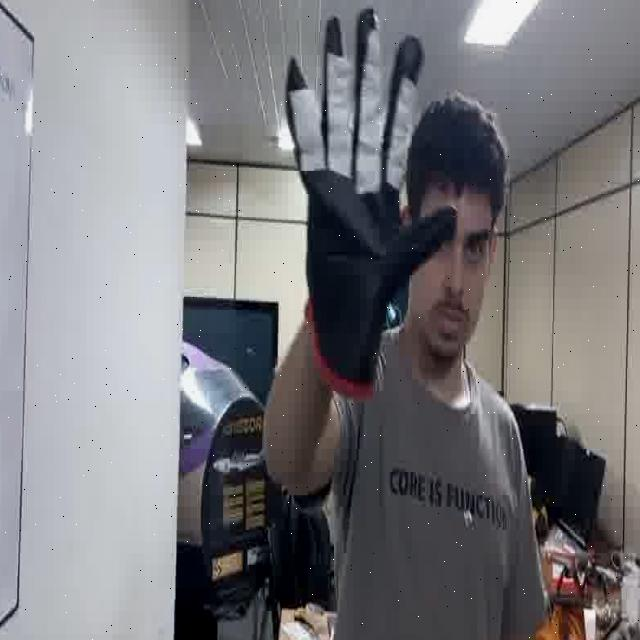Gloves: (283, 4, 459, 370)
